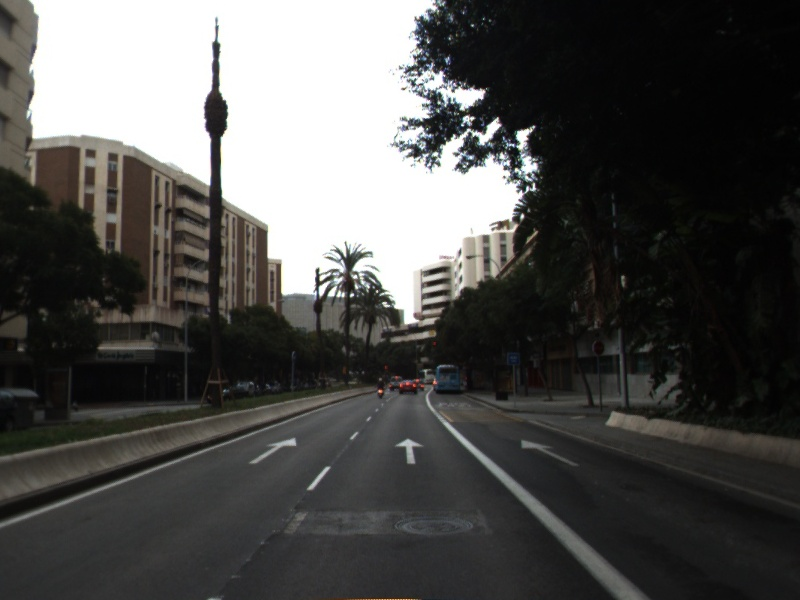STRAIGHT: (519, 438, 582, 468), (247, 436, 298, 466), (393, 436, 425, 466)
